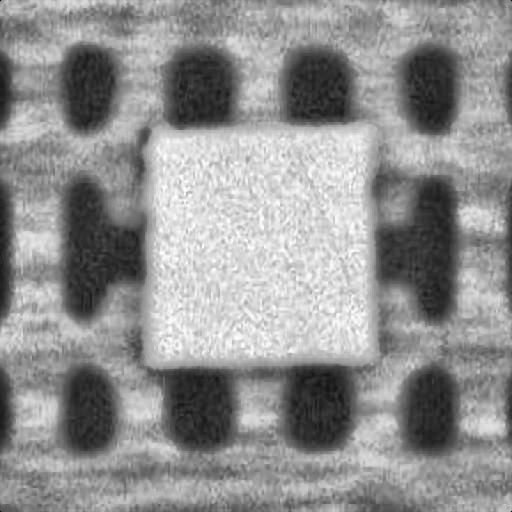DIE_CRACK: (432, 88, 512, 202)
